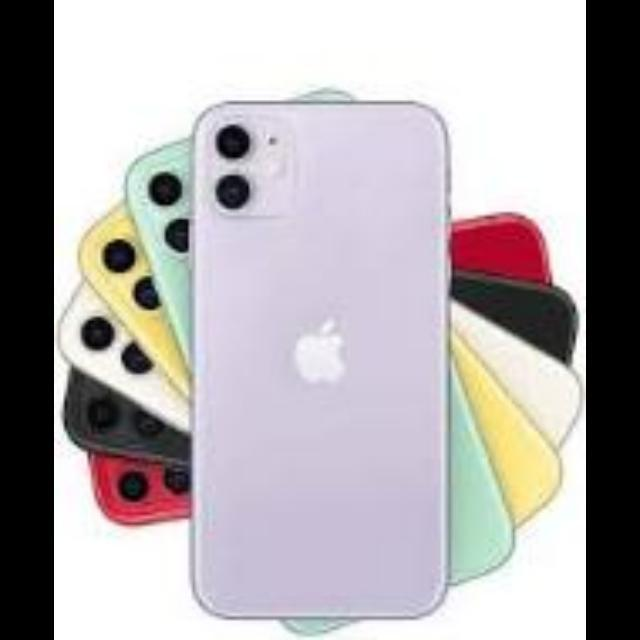Phone: (192, 104, 448, 616)
